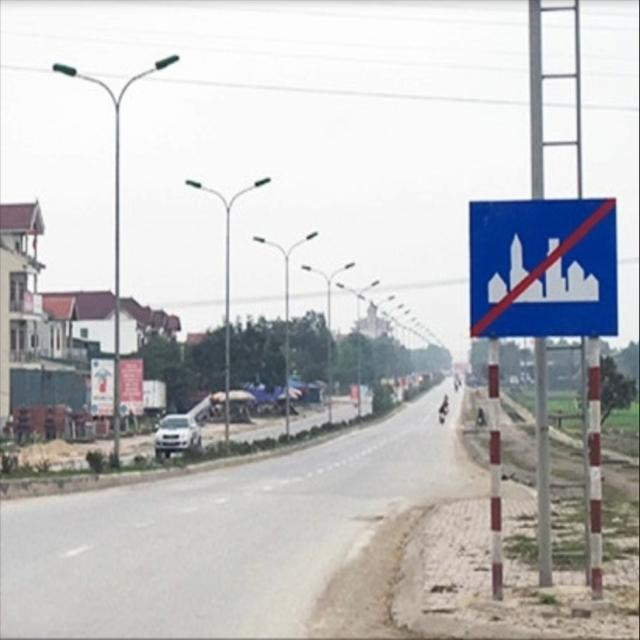421-ket-thuc-khu-dong-dan-cu: (466, 197, 622, 337)
